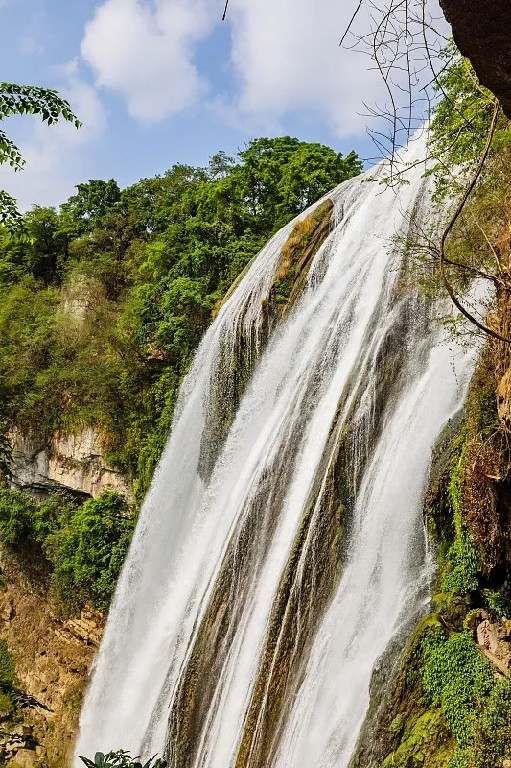Huangguoshu: (73, 111, 494, 768)
